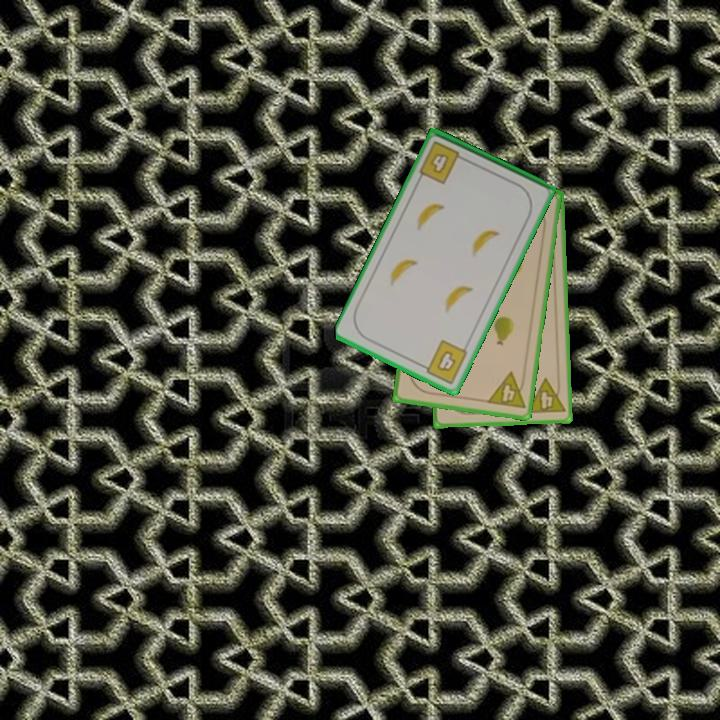4b: (417, 336, 471, 387), (415, 138, 470, 187)
4p: (483, 369, 529, 412), (523, 375, 568, 417)
